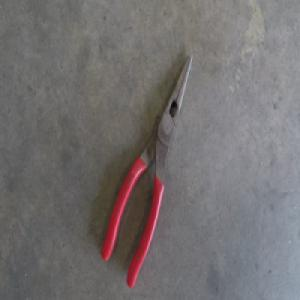Pliers: (101, 51, 191, 285)
